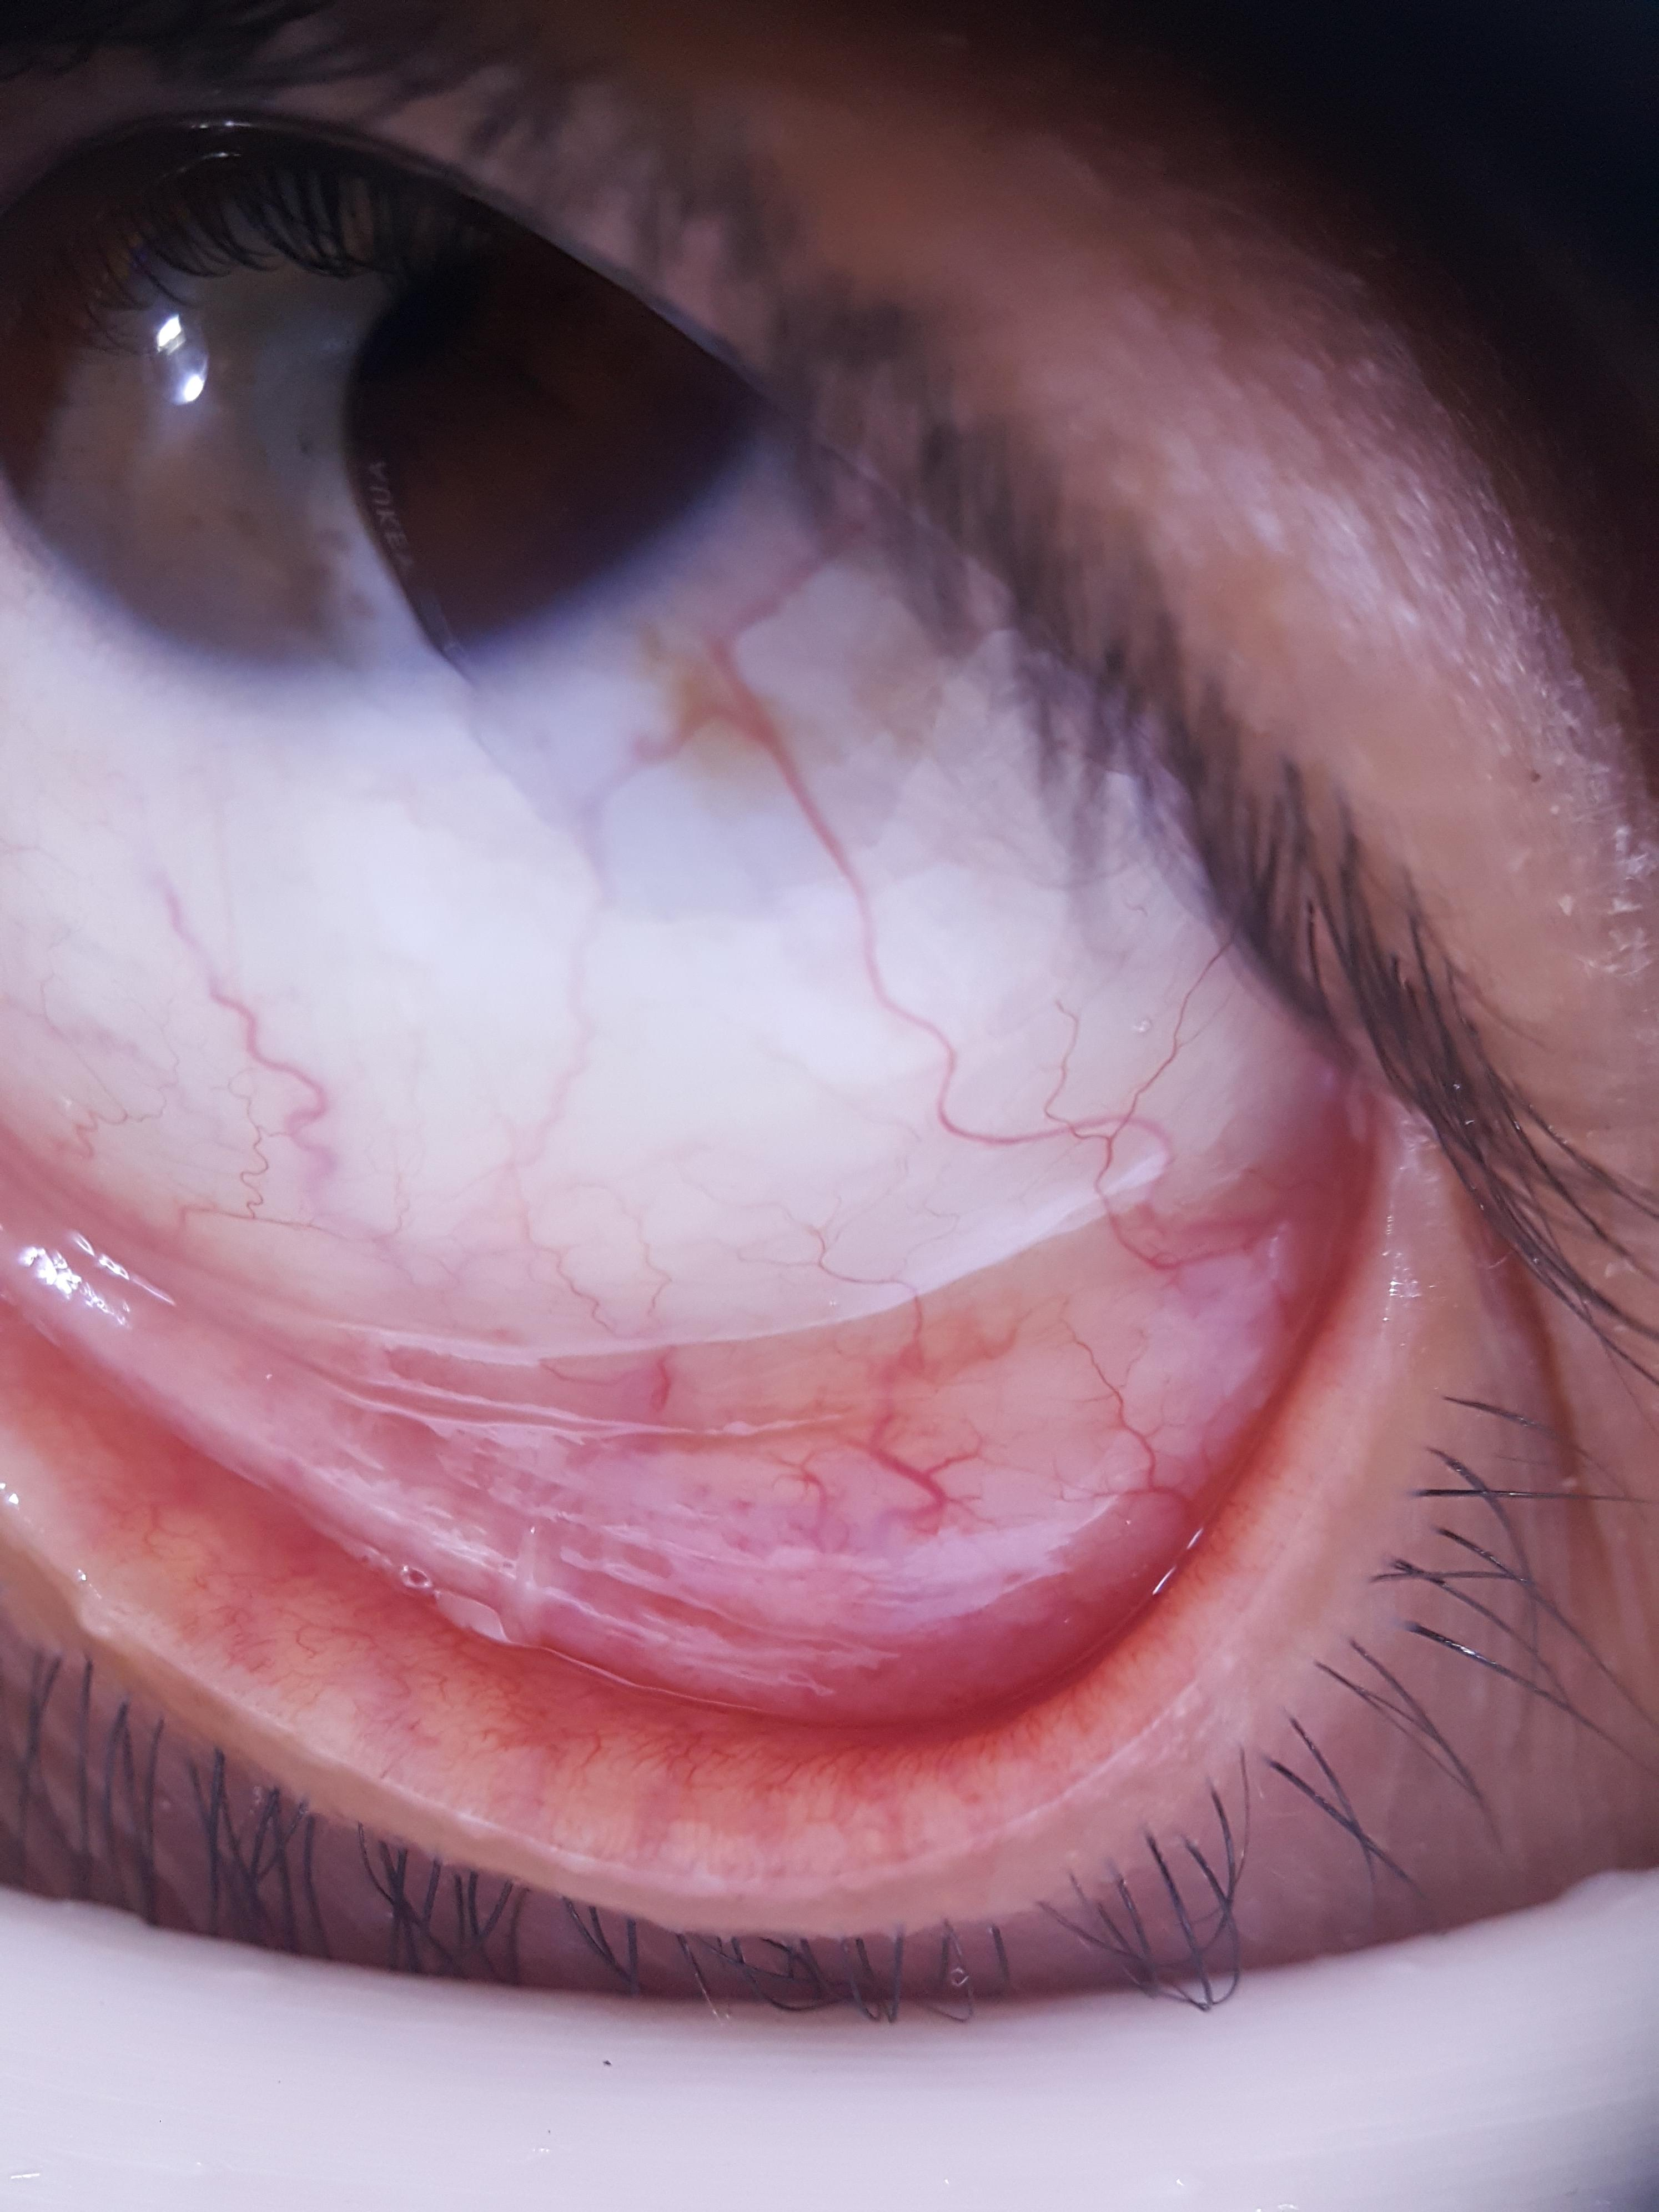forniceal: (0, 1092, 1347, 1726)
forniceal_palpebral: (0, 1092, 1384, 1836)
palpebral: (5, 1150, 1371, 1827)
